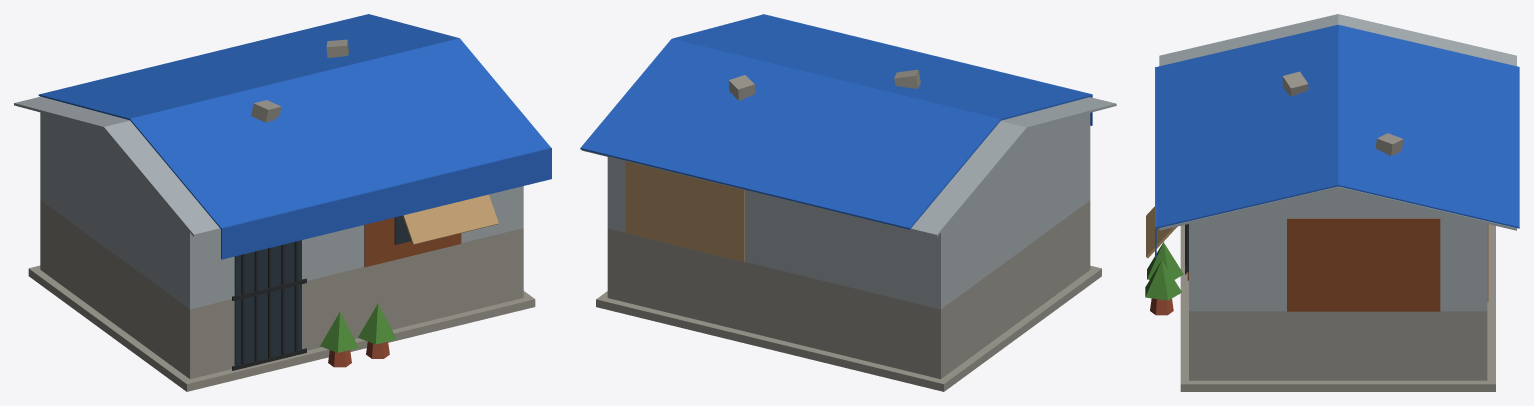
File: BAY_I_TarpShack_K.glb
3 renders of one model, left to right at view 1: azimuth 30°, elevation 25°; view 2: azimuth 150°, elevation 25°; view 3: azimuth 270°, elevation 25°, orthographic.
Parts seen in each view (by area): view 1: BAY_I_TarpShack_K; view 2: BAY_I_TarpShack_K; view 3: BAY_I_TarpShack_K.
Boxes of the visible parts, x1,y1,x2,y2 form: BAY_I_TarpShack_K: (14, 14, 551, 391); BAY_I_TarpShack_K: (580, 14, 1116, 391); BAY_I_TarpShack_K: (1145, 14, 1519, 391).
Size of the model in its own units: 4.8 by 2.76 by 4.39.
1 material, 1 textured.
